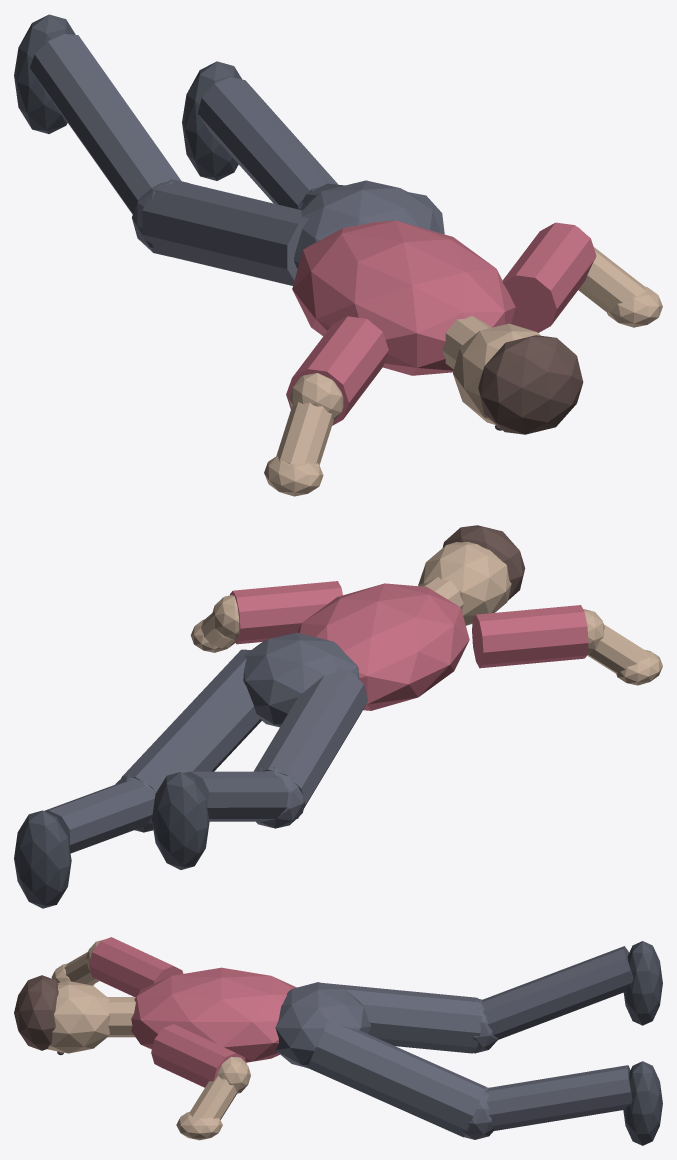
The picture shows the model from 3 angles, top to bottom: view 1: azimuth 30°, elevation 25°; view 2: azimuth 150°, elevation 25°; view 3: azimuth 270°, elevation 25°; orthographic projection. The views are drawn at different scales.
Visible parts, largest first — view 1: world; view 2: world; view 3: world.
Boxes of the visible parts, x1,y1,x2,y2 form: world: (14, 14, 662, 496); world: (14, 525, 662, 908); world: (14, 937, 662, 1145).
Size of the model in its own units: 1.25 by 0.52 by 2.08.
